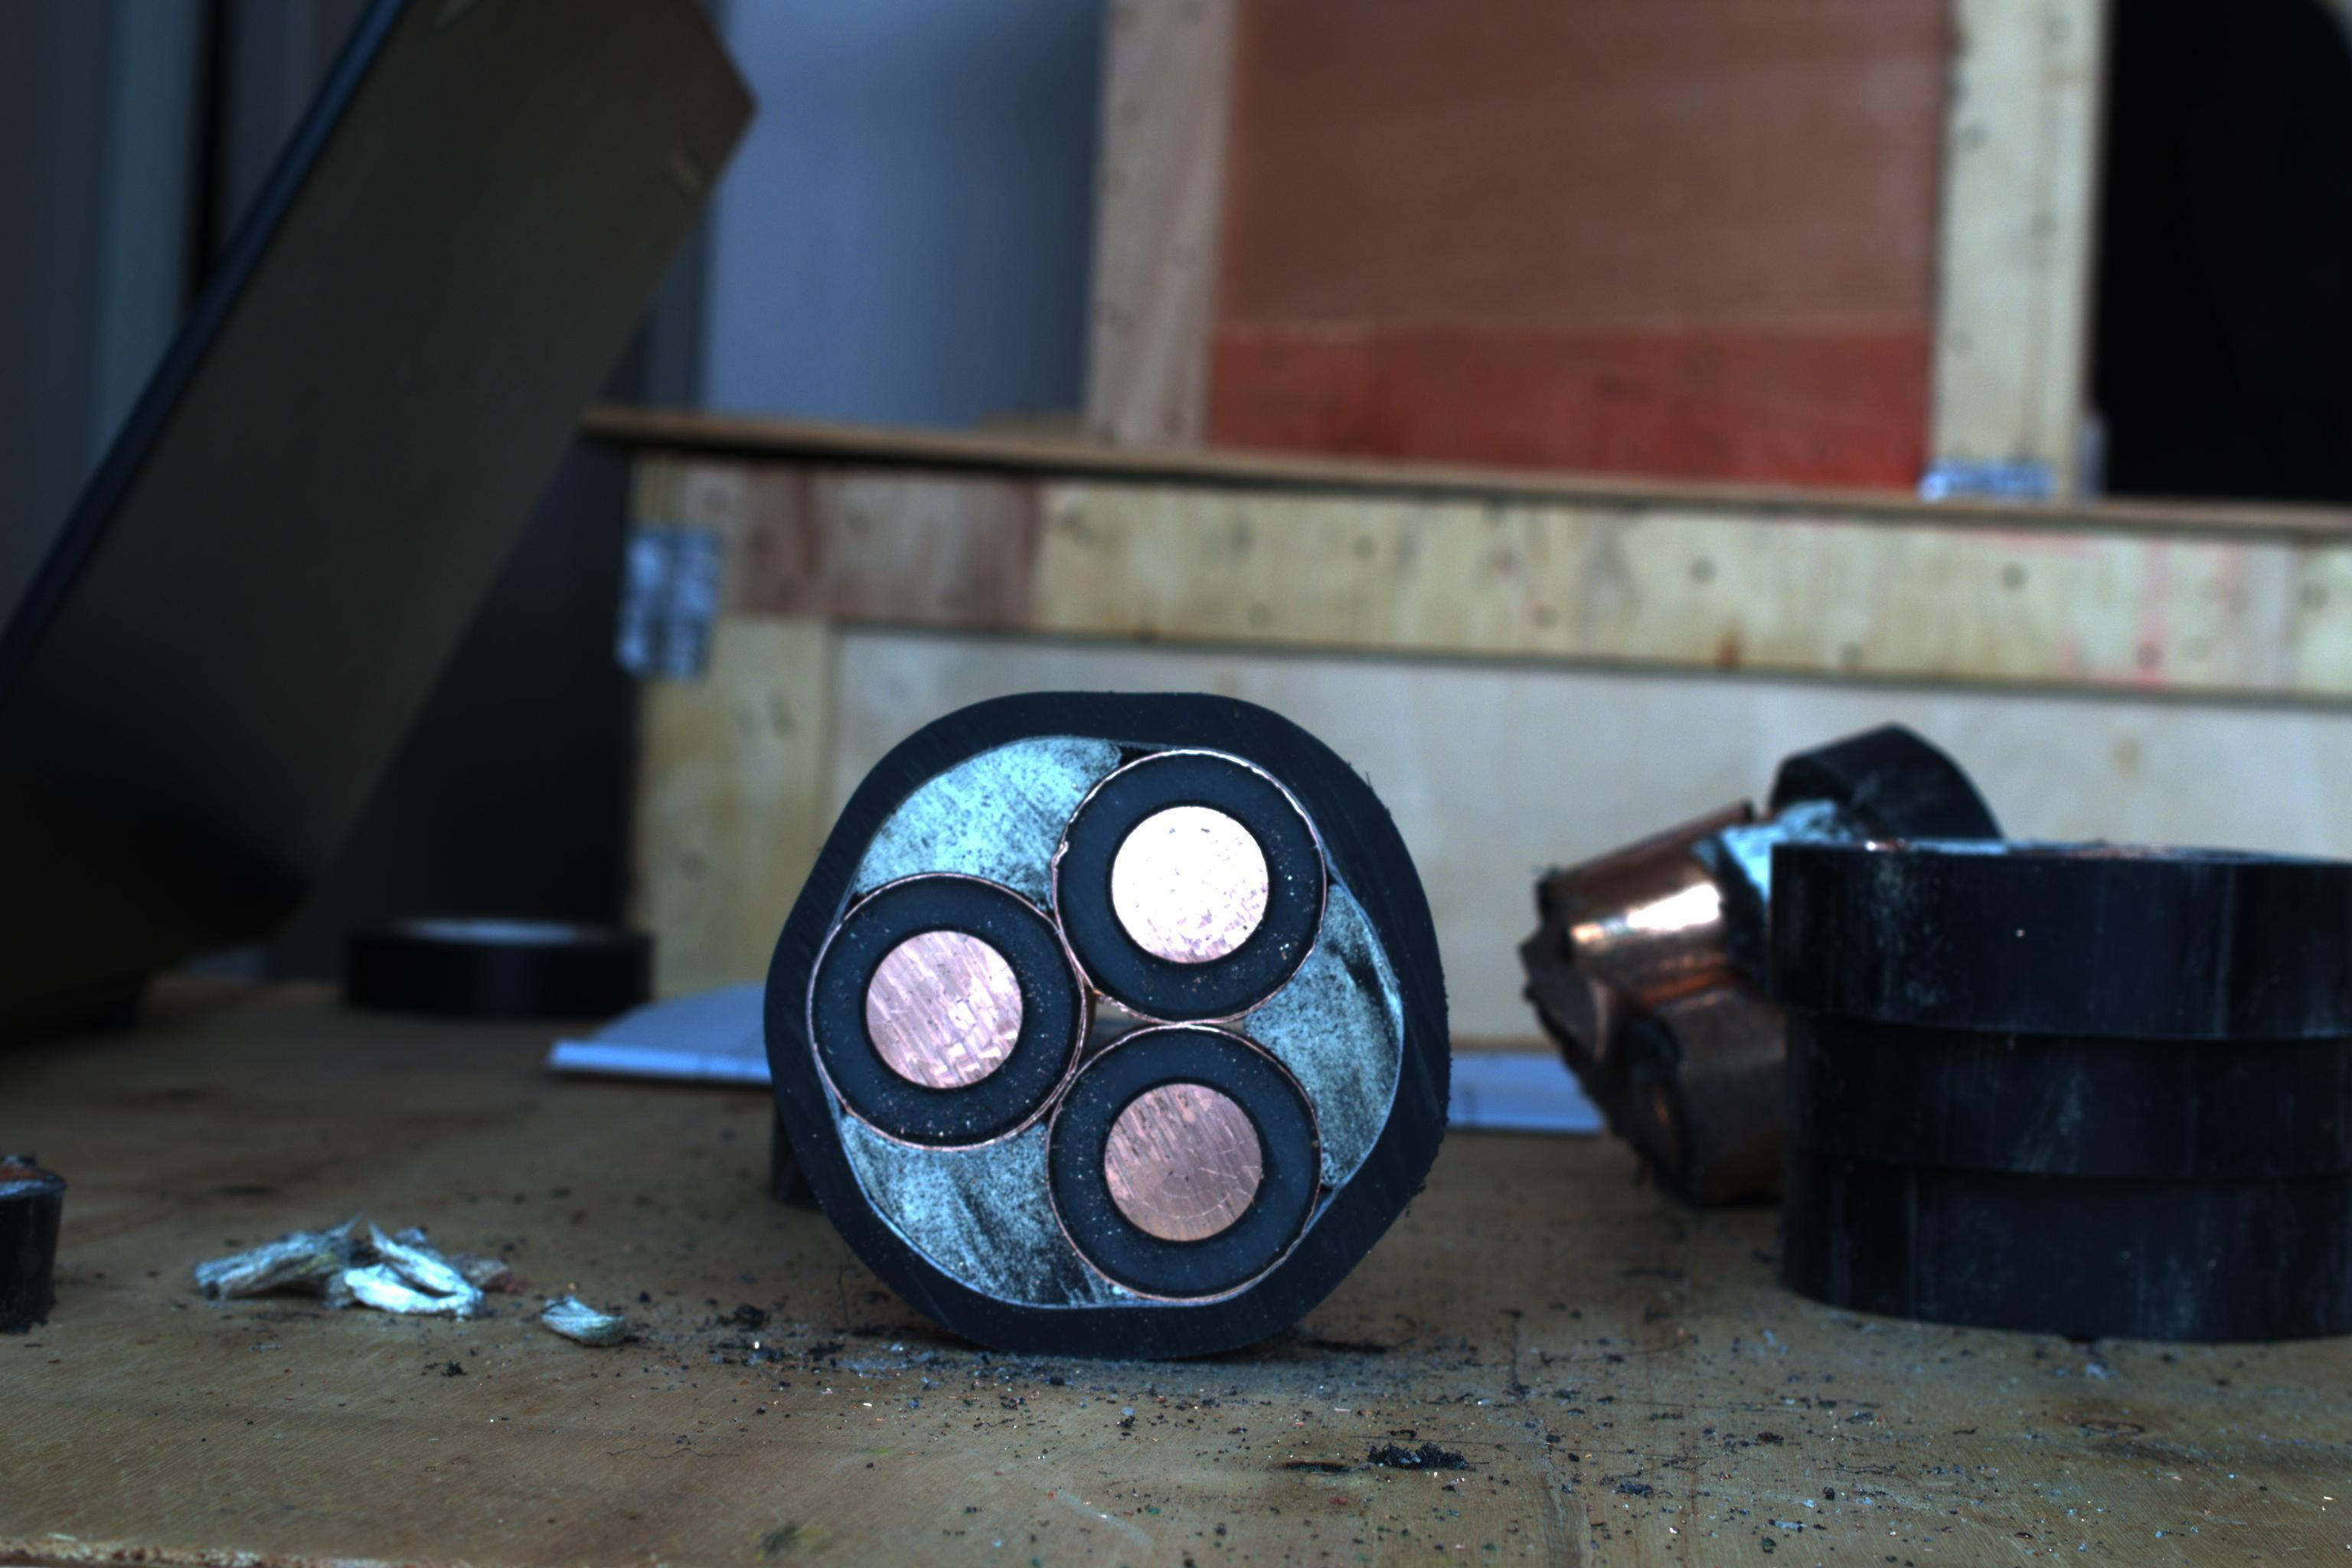ZA_YJV_8.7_10kV_3x240: (772, 691, 1428, 1365)
